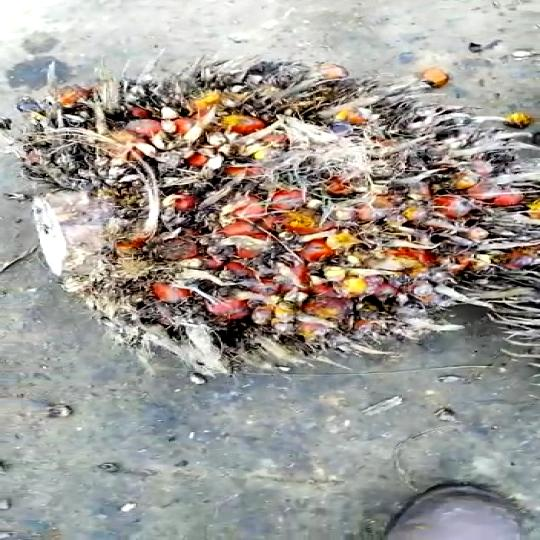terlalu masak: (0, 56, 540, 412)
